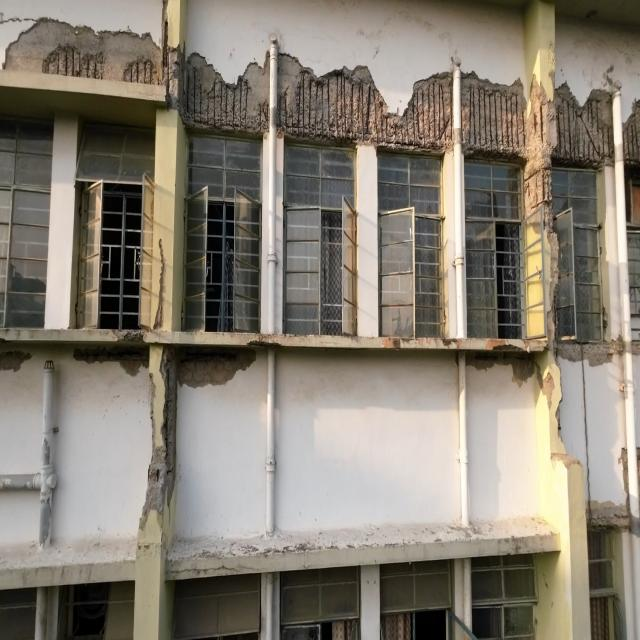spalling: (278, 54, 422, 146), (134, 344, 178, 639), (522, 2, 559, 350), (180, 53, 269, 134), (462, 73, 524, 156), (552, 84, 613, 168), (390, 72, 451, 151), (524, 74, 556, 213), (539, 351, 566, 462), (178, 351, 256, 388), (466, 352, 534, 385), (42, 45, 104, 79), (74, 347, 149, 375), (558, 337, 622, 366), (588, 500, 630, 529), (624, 100, 640, 166), (123, 60, 159, 84), (0, 350, 31, 371)
stain_mould: (115, 330, 143, 341), (485, 339, 509, 350), (383, 338, 400, 348), (443, 339, 457, 345)
